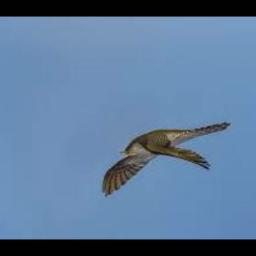Cuckoo: (102, 123, 232, 197)
